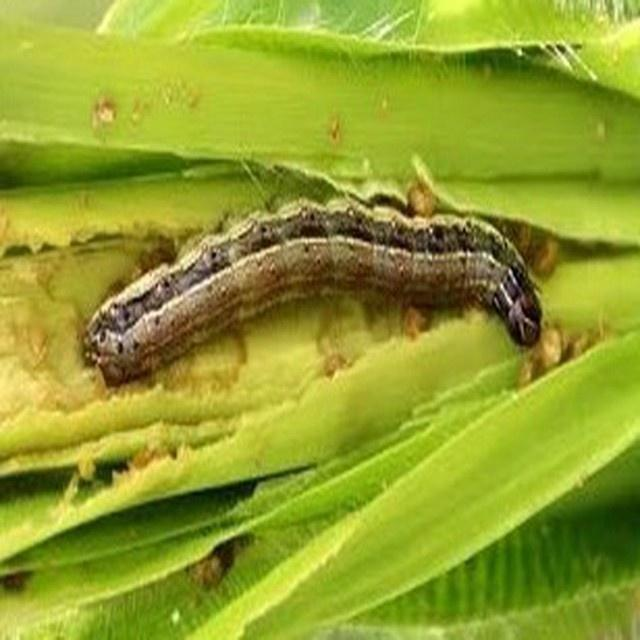gusano_cogollero: (74, 182, 551, 385)
